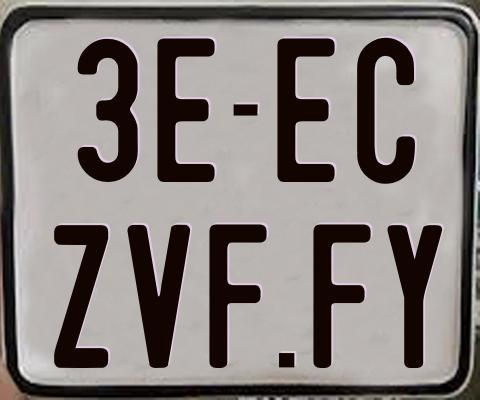3: (77, 39, 138, 183)
C: (356, 37, 417, 186)
E: (157, 35, 221, 184), (275, 38, 338, 185)
F: (310, 223, 374, 370), (207, 221, 271, 367)
V: (127, 223, 190, 370)
Y: (387, 223, 445, 370)
Z: (54, 225, 110, 374)
